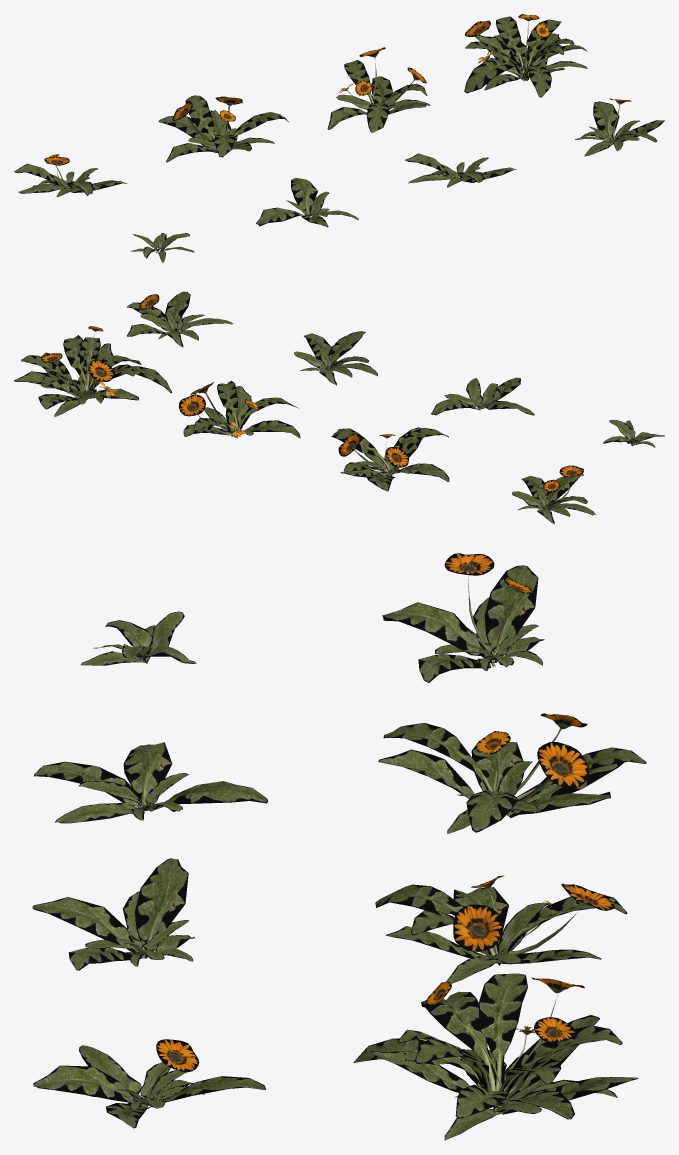
Rendered from flower_gazania.glb.
3 renders of one model, top to bottom at view 1: azimuth 30°, elevation 25°; view 2: azimuth 150°, elevation 25°; view 3: azimuth 270°, elevation 25°, orthographic. The views are drawn at different scales.
Visible parts, largest first — view 1: flower_gazania_h_LOD0, flower_gazania_f_LOD0, flower_gazania_g_LOD0, flower_gazania_d_LOD0, flower_gazania_b_LOD0, flower_gazania_e_LOD0, flower_gazania_c_LOD0, flower_gazania_a_LOD0; view 2: flower_gazania_h_LOD0, flower_gazania_g_LOD0, flower_gazania_f_LOD0, flower_gazania_d_LOD0, flower_gazania_e_LOD0, flower_gazania_c_LOD0, flower_gazania_b_LOD0, flower_gazania_a_LOD0; view 3: flower_gazania_h_LOD0, flower_gazania_f_LOD0, flower_gazania_g_LOD0, flower_gazania_e_LOD0, flower_gazania_c_LOD0, flower_gazania_d_LOD0, flower_gazania_b_LOD0, flower_gazania_a_LOD0.
Part boxes in pixels (<box>): flower_gazania_h_LOD0: <box>464,14,587,97</box>; flower_gazania_f_LOD0: <box>158,95,288,162</box>; flower_gazania_g_LOD0: <box>327,47,430,132</box>; flower_gazania_d_LOD0: <box>575,98,664,156</box>; flower_gazania_b_LOD0: <box>256,178,358,227</box>; flower_gazania_e_LOD0: <box>14,154,126,197</box>; flower_gazania_c_LOD0: <box>405,153,516,187</box>; flower_gazania_a_LOD0: <box>131,233,194,262</box>; flower_gazania_h_LOD0: <box>14,326,172,417</box>; flower_gazania_g_LOD0: <box>179,381,300,438</box>; flower_gazania_f_LOD0: <box>331,427,449,491</box>; flower_gazania_d_LOD0: <box>127,291,233,347</box>; flower_gazania_e_LOD0: <box>512,465,595,524</box>; flower_gazania_c_LOD0: <box>294,331,377,385</box>; flower_gazania_b_LOD0: <box>431,377,534,415</box>; flower_gazania_a_LOD0: <box>603,419,664,447</box>; flower_gazania_h_LOD0: <box>353,973,638,1140</box>; flower_gazania_f_LOD0: <box>378,713,646,833</box>; flower_gazania_g_LOD0: <box>375,875,627,983</box>; flower_gazania_e_LOD0: <box>382,553,544,682</box>; flower_gazania_c_LOD0: <box>32,858,194,970</box>; flower_gazania_d_LOD0: <box>33,1039,265,1128</box>; flower_gazania_b_LOD0: <box>34,742,268,823</box>; flower_gazania_a_LOD0: <box>81,611,196,665</box>.
Bounding box in the file's own units: 1.48 × 0.1653 × 0.7028.
1 material, 1 textured.
